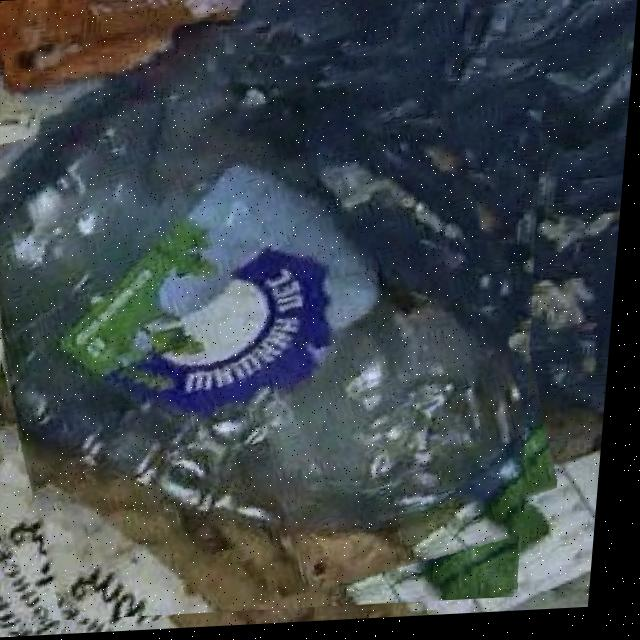plasticbottle: (0, 26, 566, 625)
